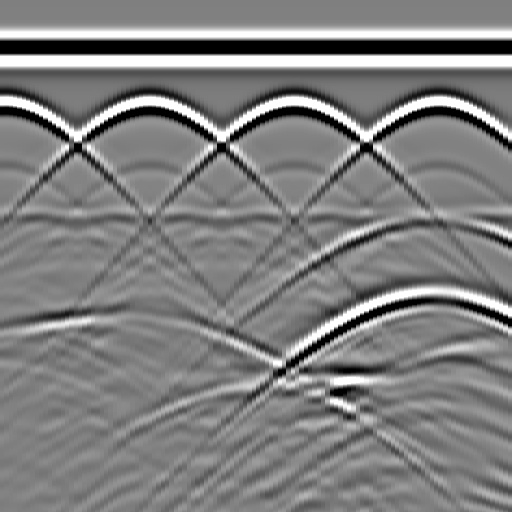grout_surface: (1, 201, 512, 231)
rebar: (127, 85, 167, 125), (271, 85, 311, 125), (416, 85, 456, 125)
rock_surface: (1, 314, 511, 387)
water_void: (400, 195, 460, 235)
